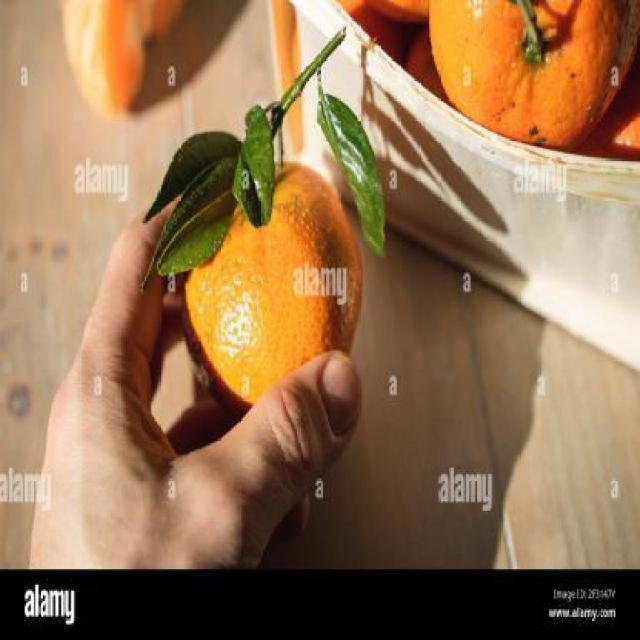Jeruk Sudah Matang: (185, 154, 361, 414), (427, 0, 640, 158)
